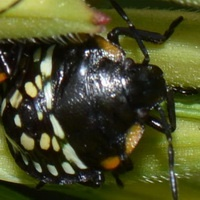insect: (0, 127, 171, 199), (125, 9, 199, 86), (0, 0, 126, 37), (173, 96, 199, 199)
